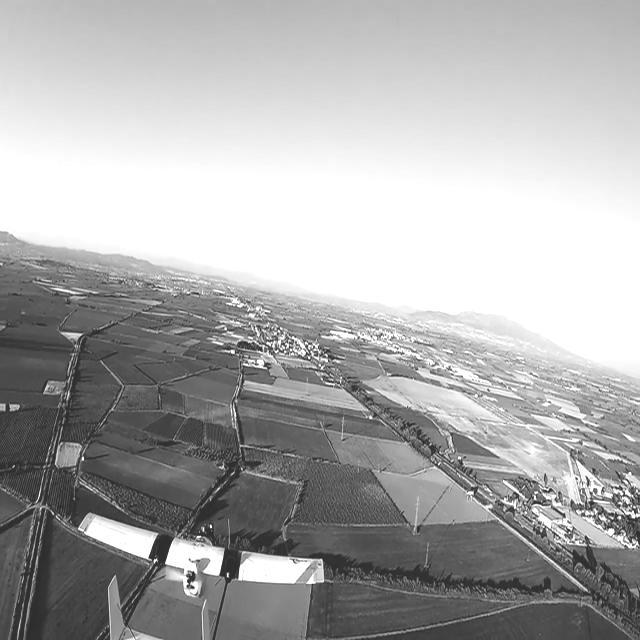iha: (64, 508, 321, 637)
